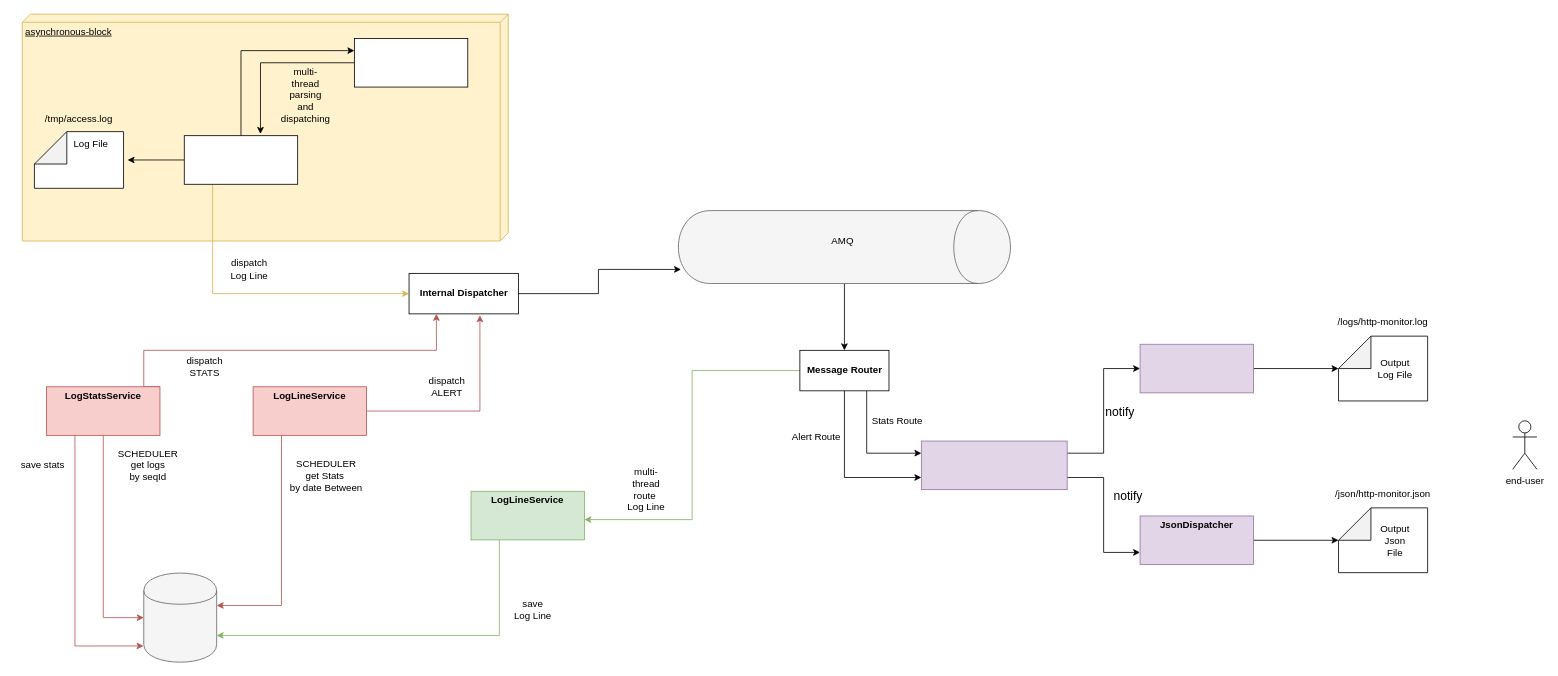
Some shapes in this 1558 by 676 pixel diagram are drawn without their labels. Here are the shapes that lost their labels. From the top down, the centre of each, then its label:
the point at 411,62: LogLineParser
the point at 240,159: TailerListener
the point at 1196,368: LogDispatcher
the point at 994,465: ExternalDispatcherObserver
the point at 180,617: MariaDB
